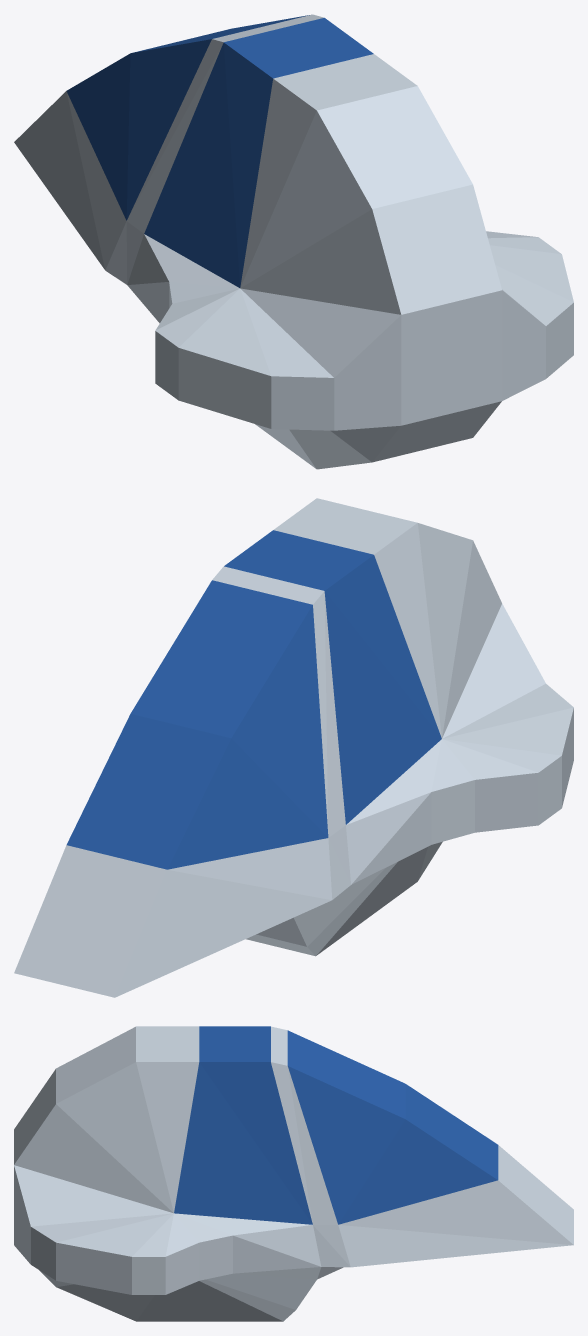
File: car.FBX
The picture shows the model from 3 angles, top to bottom: view 1: azimuth 30°, elevation 25°; view 2: azimuth 150°, elevation 25°; view 3: azimuth 270°, elevation 25°; orthographic projection. The views are drawn at different scales.
Visible parts, largest first — view 1: VIFS002, VIFS001; view 2: VIFS002, VIFS001; view 3: VIFS002, VIFS001.
Boxes of the visible parts, x1,y1,x2,y2 form: VIFS002: (14,14,573,469); VIFS001: (66,15,373,287); VIFS002: (14,498,573,997); VIFS001: (66,530,441,869); VIFS002: (14,1026,573,1321); VIFS001: (174,1026,498,1224).
Size of the model in its own units: 1.52 by 1.36 by 2.66.
